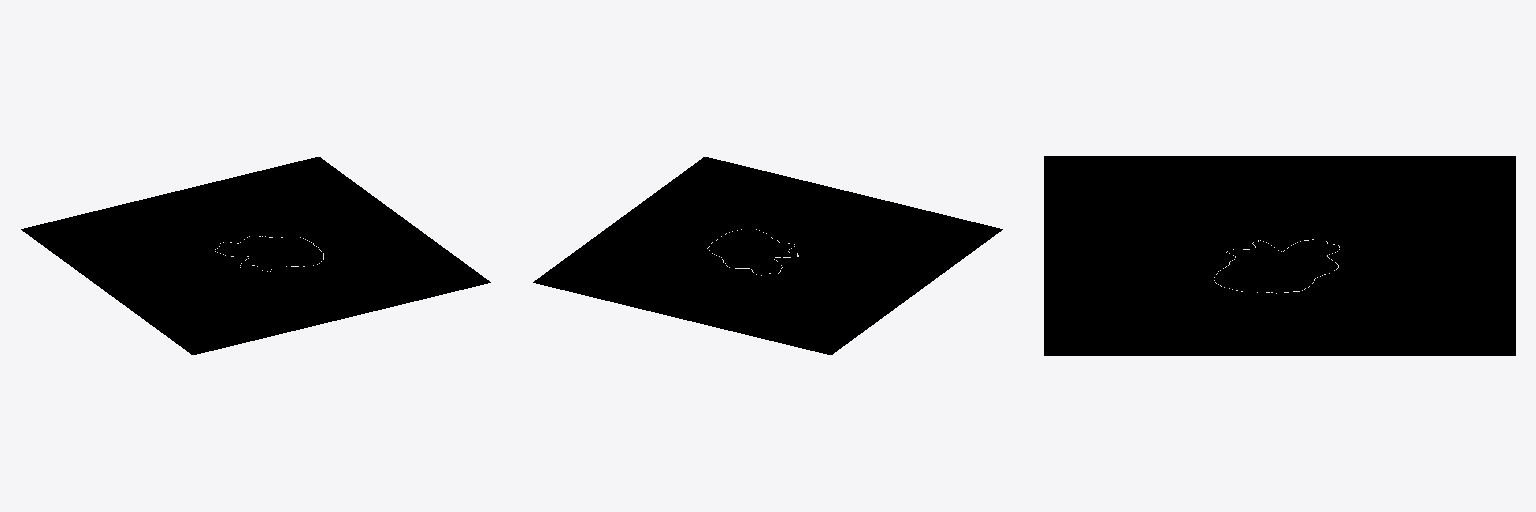
The robot description file, URDF, robot "world":
<robot name="world">
 
	<link name="plane">

   		<inertial>
		    <origin rpy="0 0 0" xyz="0 0 0" />
            <mass value="0.0" />
            <inertia ixx="0.0" ixy="0.0" ixz="0.0" iyy="0.0" iyz="0.0" izz="0.0" />
        </inertial>

    	<visual>
      		<geometry>
        		<box size="10.0 10.0 0.001" />
      		</geometry>

			<material name="plane_color">
        		<color rgba="0 0 0 1" />
      		</material>
       	
			<origin rpy="0 0 0" xyz="0 0 0" />
		</visual>

		<contact>
		 	<lateral_friction value="1" />
			<stiffness value="300000" />
          	<damping value="1000" />
  		</contact>

  		<collision>
			<geometry>
        		<box size="10.0 10.0 0.01" />
      		</geometry>
          <origin rpy="0 0 0" xyz="0 0 0" />
        </collision>
  
	</link>


	<link name="line">

   		<inertial>
		    <origin rpy="0 0 0" xyz="0 0 0" />
            <mass value="0.0" />
            <inertia ixx="0.0" ixy="0.0" ixz="0.0" iyy="0.0" iyz="0.0" izz="0.0" />
        </inertial>

    	<visual>
      		<geometry>
				<mesh filename="./models_tracks/3.obj" scale="1 1 1" />
      		</geometry>
       		
			<material name="line_color">
        		<color rgba="1 1 1 1" />
      		</material>
	    
			<origin rpy="0 0 0" xyz="0 0 0.001" />
		</visual>
    
	</link>


  	<joint name="plane_line" type="fixed">
		<parent link="plane" />
		<child link="line" />
        <origin rpy="0 0 0" xyz="0.0 0.0 0.0" />
 	</joint>

</robot>

--- What the picture shows (computed from the rendered views, not written in the file) ---
Views: 3 orthographic renders of the robot side by side, from view 1: azimuth 30°, elevation 25°; view 2: azimuth 150°, elevation 25°; view 3: azimuth 270°, elevation 25°.
Robot: world — 2 links, 1 joints (1 fixed); root link plane; default pose: every joint at zero.
Links seen in each view (by area): view 1: plane; view 2: plane; view 3: plane.
Boxes of the visible links, box(x1,y1,x2,y2) form: plane: box(21, 157, 490, 354); plane: box(533, 157, 1002, 354); plane: box(1044, 156, 1515, 355).
Bounding box of the posed robot: 10 × 10 × 0.0015 m (x, y, z).
Meshes: 1 distinct files referenced, 1 mesh visuals loaded (1 OBJ).
